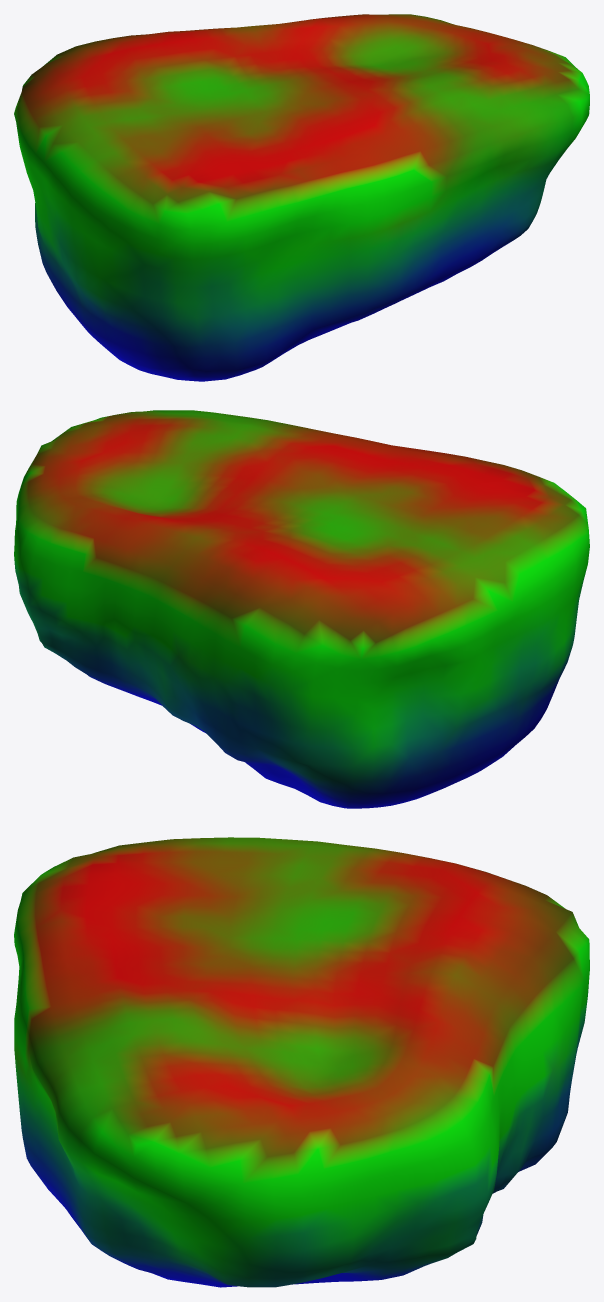
Rendered from SM_Island.fbx.
3 renders of one model, top to bottom at view 1: azimuth 30°, elevation 25°; view 2: azimuth 150°, elevation 25°; view 3: azimuth 270°, elevation 25°, orthographic. The views are drawn at different scales.
Visible parts, largest first — view 1: pCube1; view 2: pCube1; view 3: pCube1.
Boxes of the visible parts, bbox=[...] form: pCube1: bbox=[14, 14, 589, 381]; pCube1: bbox=[14, 410, 589, 808]; pCube1: bbox=[14, 837, 589, 1287].
Bounding box in the file's own units: 1177 × 546 × 888.
